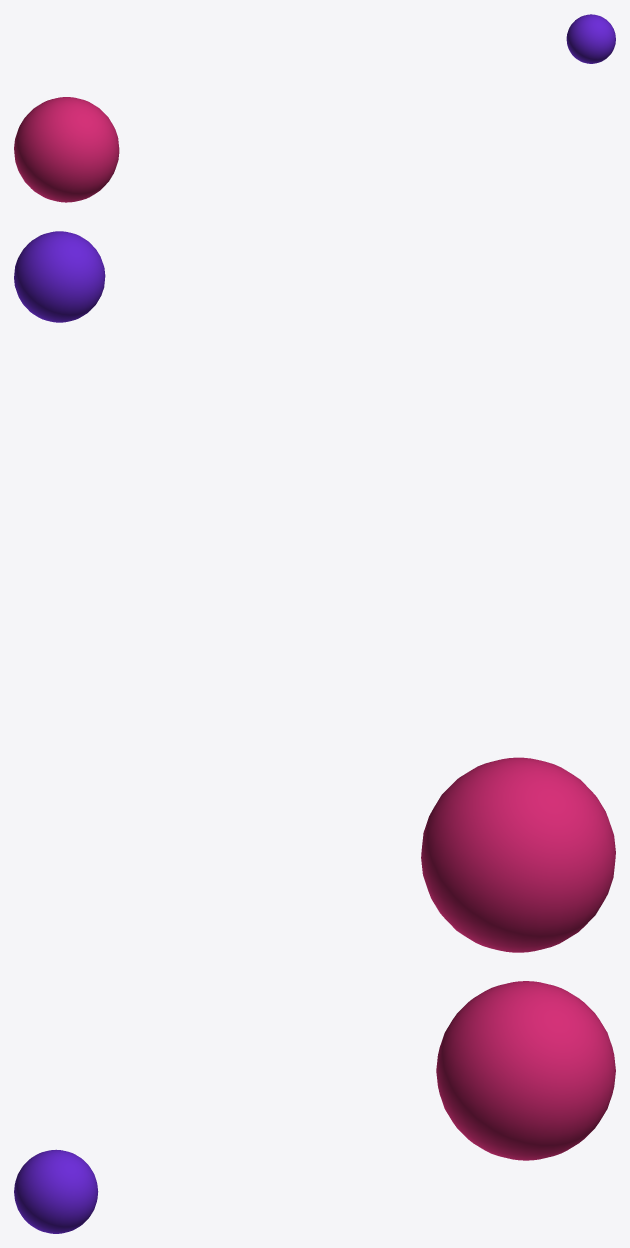
File: spheres.glb
The picture shows the model from 3 angles, top to bottom: view 1: azimuth 30°, elevation 25°; view 2: azimuth 150°, elevation 25°; view 3: azimuth 270°, elevation 25°; orthographic projection. The views are drawn at different scales.
Visible parts, largest first — view 1: sphere_magenta, sphere_indigo; view 2: sphere_magenta, sphere_indigo; view 3: sphere_magenta, sphere_indigo.
Boxes of the visible parts, x1,y1,x2,y2 form: sphere_magenta: (14,97,119,202); sphere_indigo: (566,14,615,63); sphere_magenta: (421,757,615,952); sphere_indigo: (14,231,105,322); sphere_magenta: (436,981,615,1160); sphere_indigo: (14,1149,98,1233).
Size of the model in its own units: 0.7302 by 0.2888 by 0.4934.
